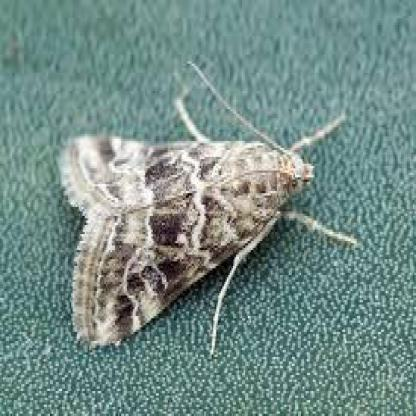Hellula undalis: (56, 48, 361, 367)
